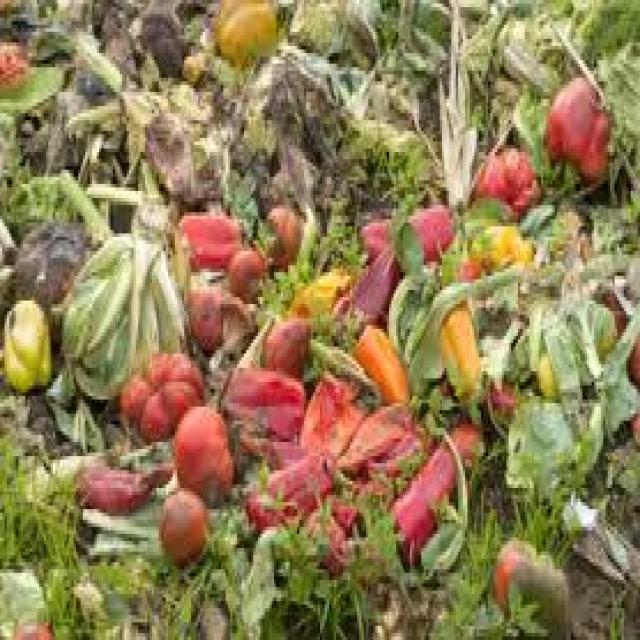Organik: (0, 0, 640, 640), (58, 187, 247, 494), (535, 48, 630, 193), (485, 519, 579, 640), (3, 283, 52, 411)
